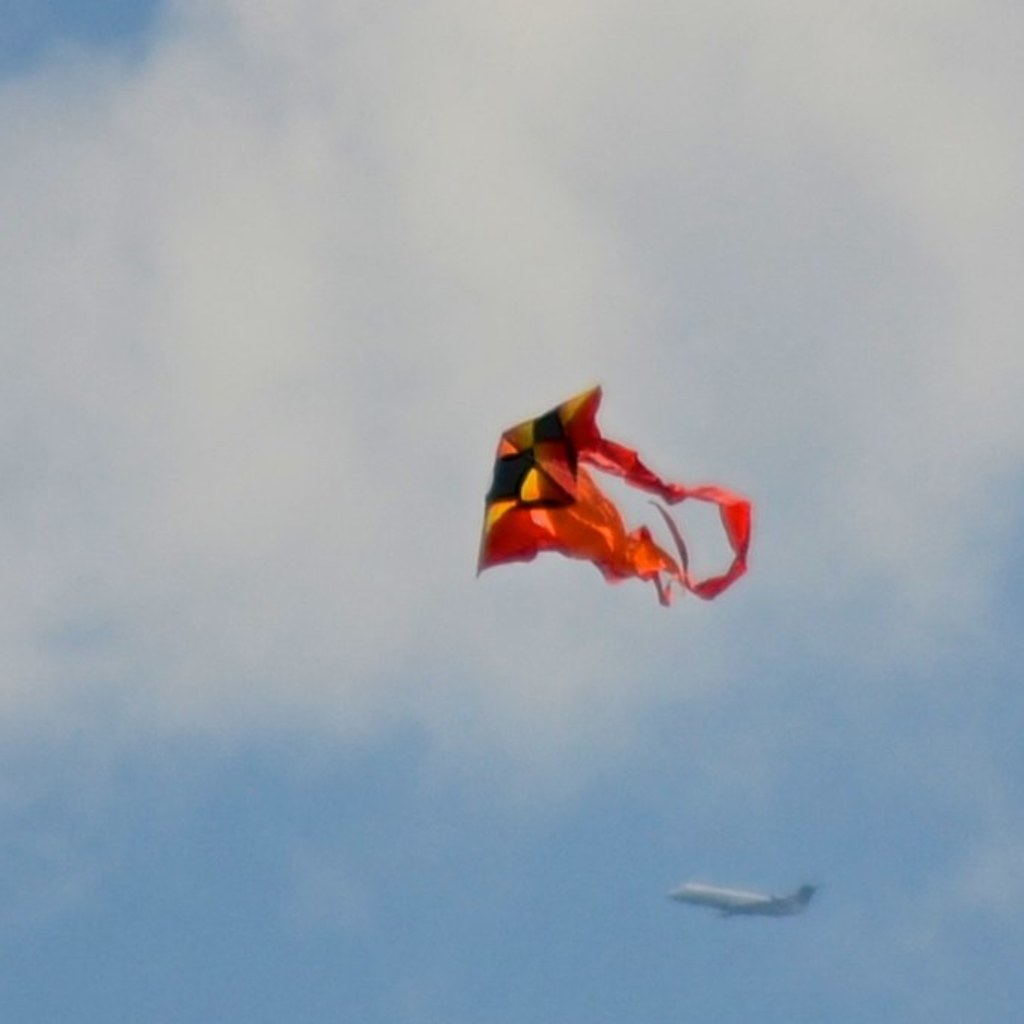kite: (462, 384, 793, 623)
